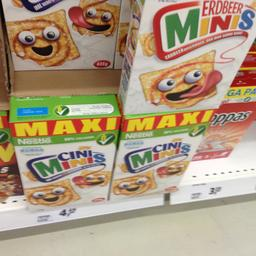cereal: (118, 0, 255, 113), (7, 92, 119, 206), (108, 113, 212, 199)
